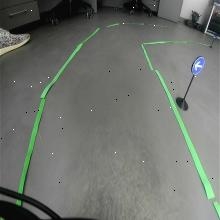left: (191, 55, 205, 76)
